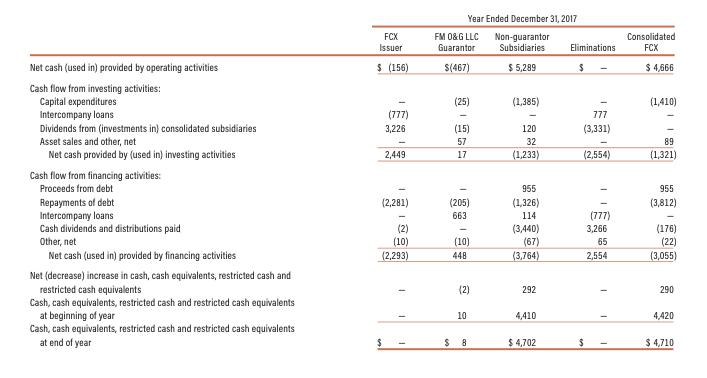table: (28, 29, 675, 347)
table column: (28, 29, 334, 347), (334, 29, 420, 347), (485, 29, 558, 347), (420, 29, 485, 347), (558, 29, 620, 347), (620, 29, 675, 347)
table column header: (28, 29, 675, 56)
table projected row header: (28, 76, 675, 93), (28, 163, 675, 180)
table row: (28, 264, 675, 294), (28, 29, 675, 56), (28, 320, 675, 347), (28, 294, 675, 320), (28, 56, 675, 76), (28, 76, 675, 93), (28, 146, 675, 163), (28, 163, 675, 180), (28, 247, 675, 264), (28, 106, 675, 120), (28, 180, 675, 194), (28, 233, 675, 247), (28, 93, 675, 106), (28, 120, 675, 133), (28, 133, 675, 146), (28, 194, 675, 207), (28, 207, 675, 220), (28, 220, 675, 233)
